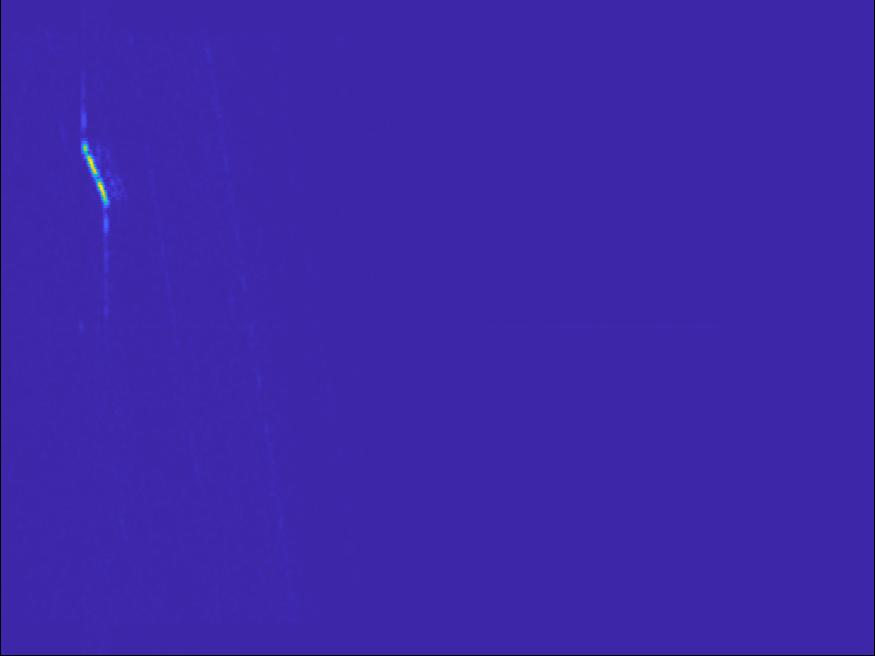Interference: (206, 43, 338, 83), (82, 121, 180, 165)
